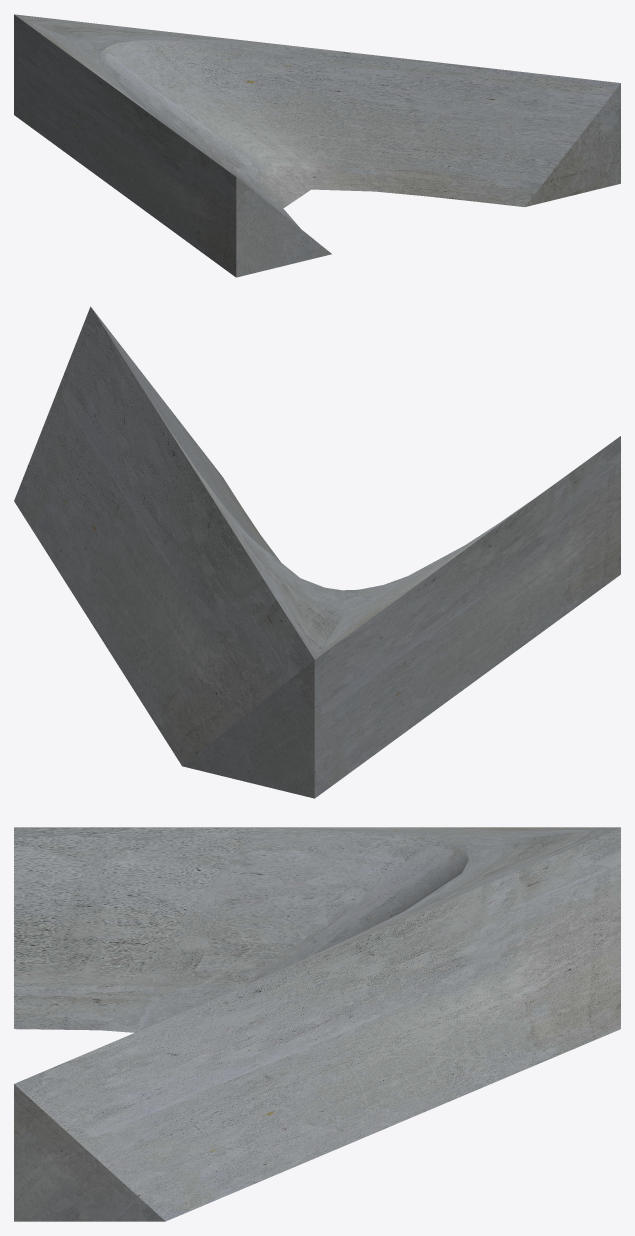
The model's file is module_F4.fbx.
3 views of the same model, one above another, from view 1: azimuth 30°, elevation 25°; view 2: azimuth 150°, elevation 25°; view 3: azimuth 270°, elevation 25° (orthographic). The views are drawn at different scales.
Visible parts, largest first — view 1: modules; view 2: modules; view 3: modules.
Part boxes in pixels (box(x1,y1,x2,y2)): modules: box(14, 14, 620, 277); modules: box(14, 306, 620, 798); modules: box(14, 827, 620, 1221).
Size of the model in its own units: 1000 by 1000 by 250.
1 material, 1 textured.
